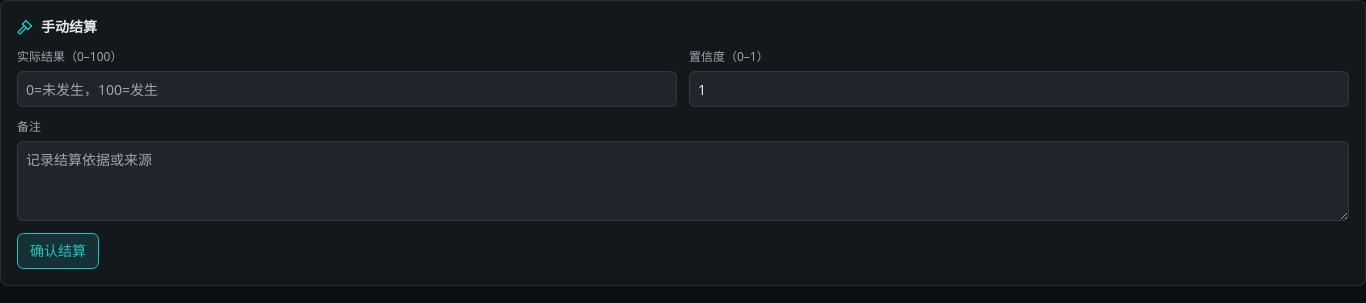
Test: ManualResolvePanel › validates actual outcome range
The image size is (1366, 303).
Step 1. Type "120" into the number field labelled "实际结果（0–100）" → (347, 89), box [17,71,677,107]
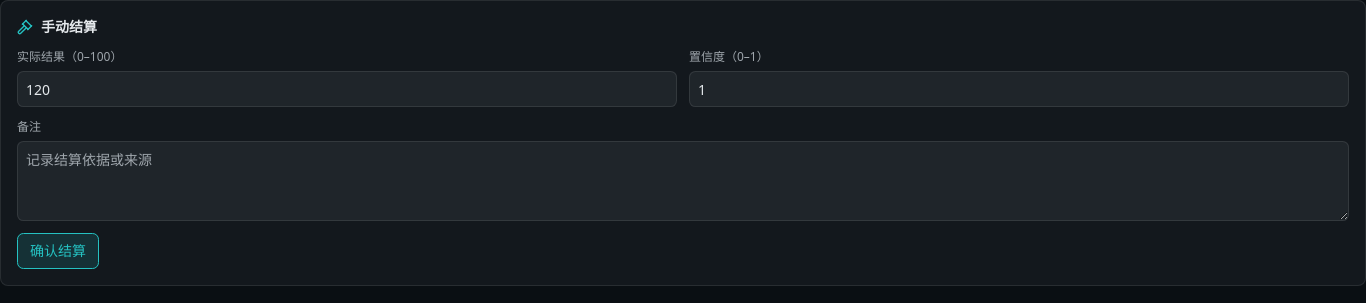
Step 2. Submit the form "确认结算"
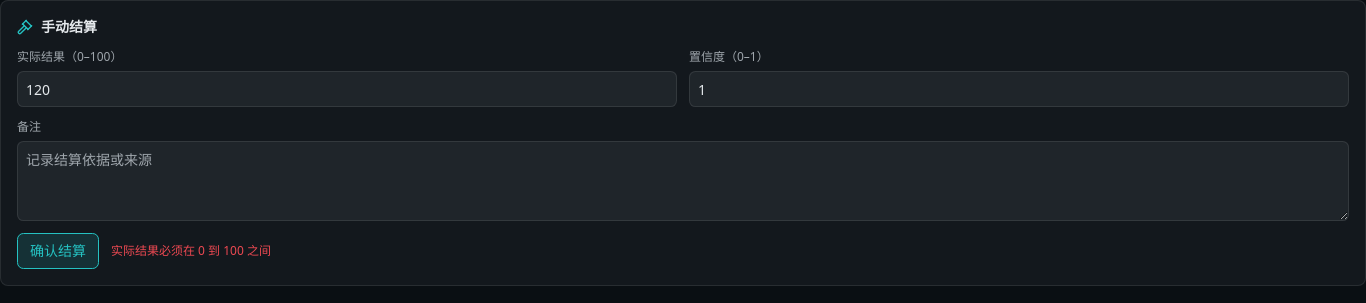
Expected: the text "实际结果必须在 0 到 100 之间" is shown, [111,243,271,259]
